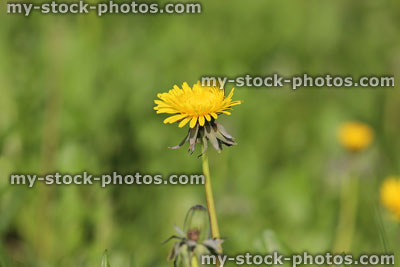dandelion: (151, 80, 242, 135)
